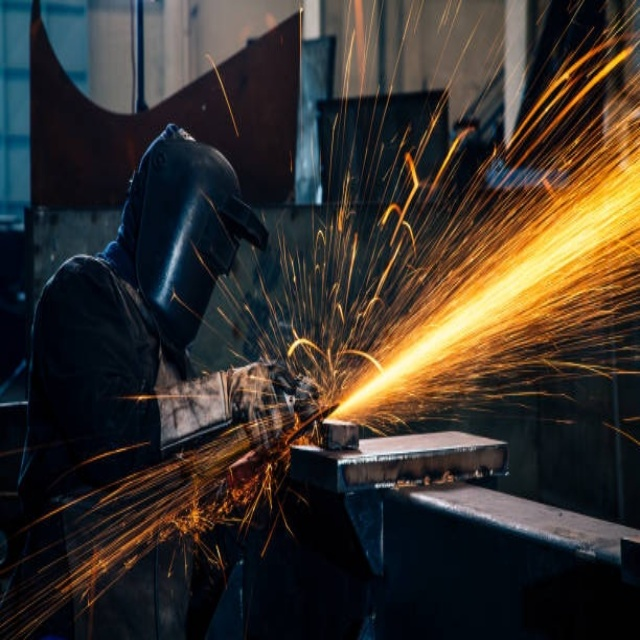Guantes: (150, 350, 283, 466)
